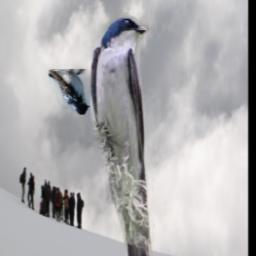Swallow: (91, 13, 155, 256), (48, 70, 90, 116)
